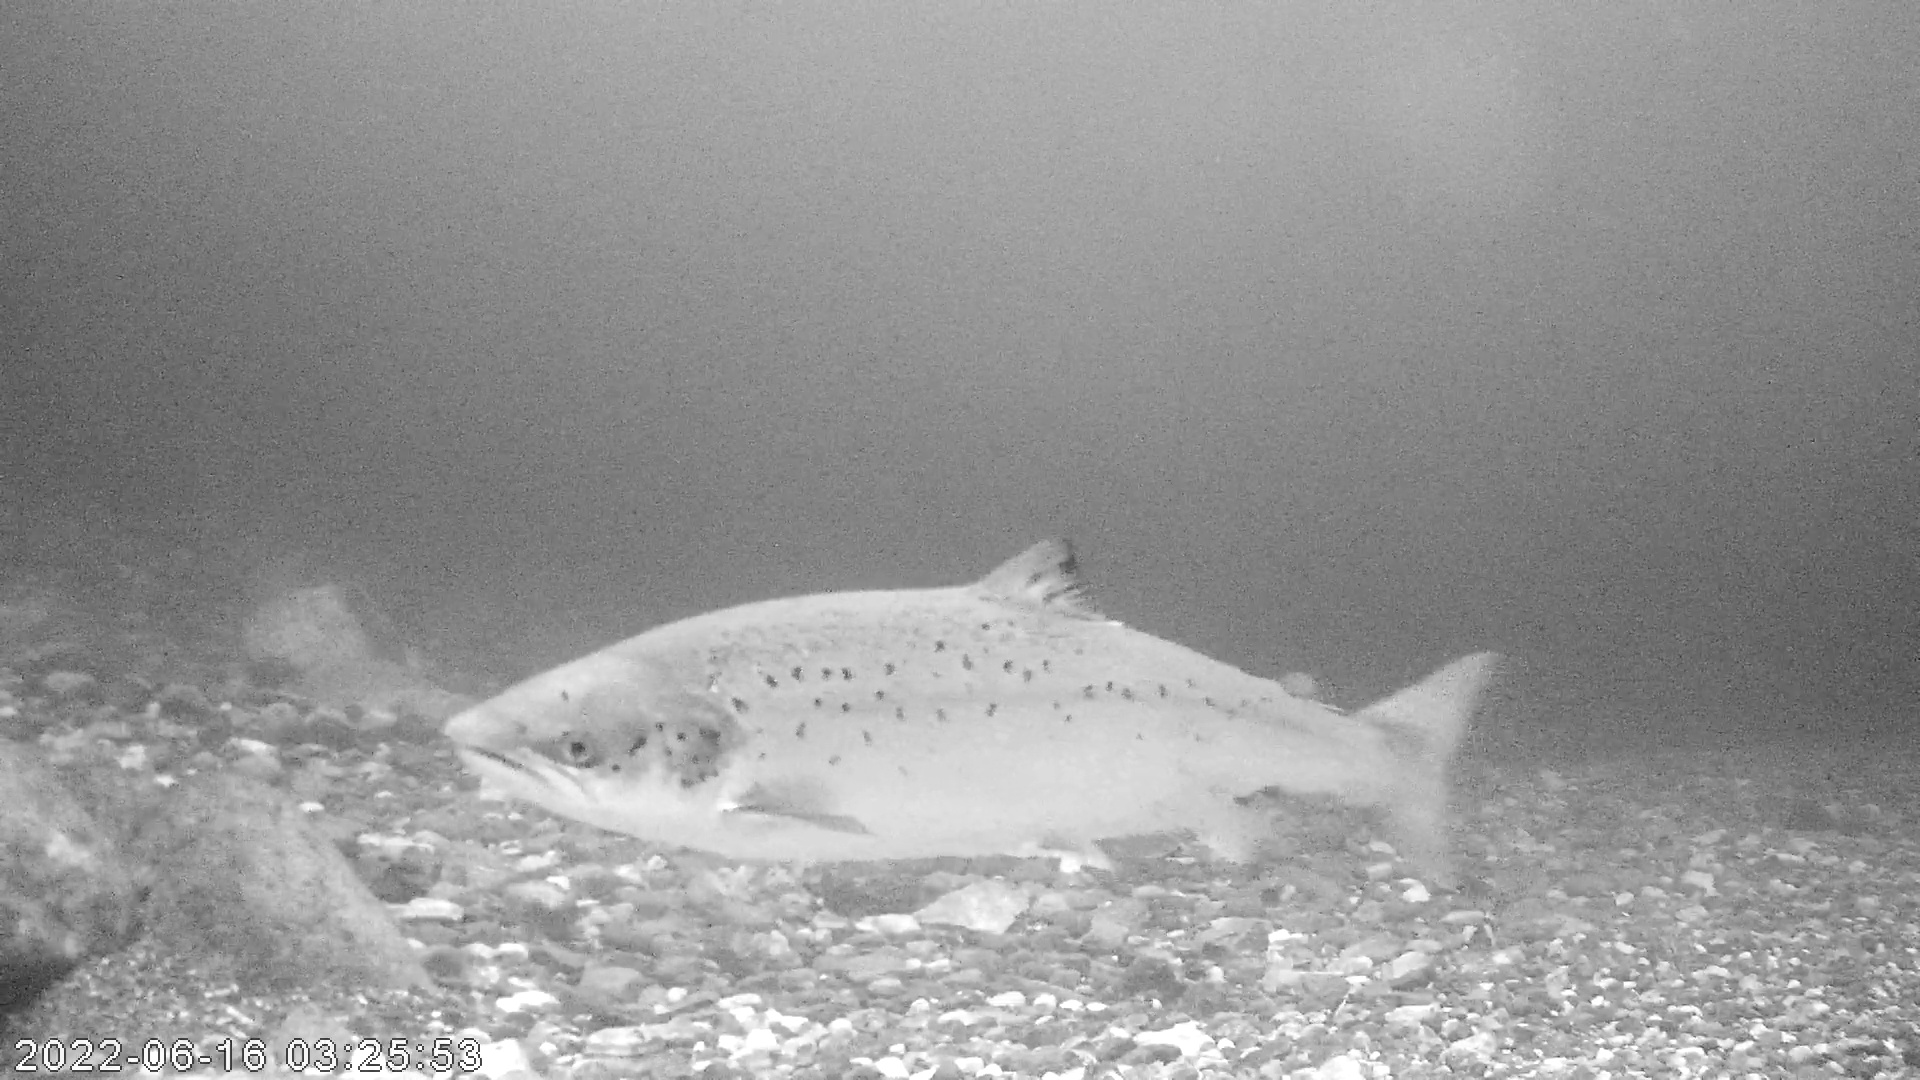salmon: (442, 533, 1499, 889)
